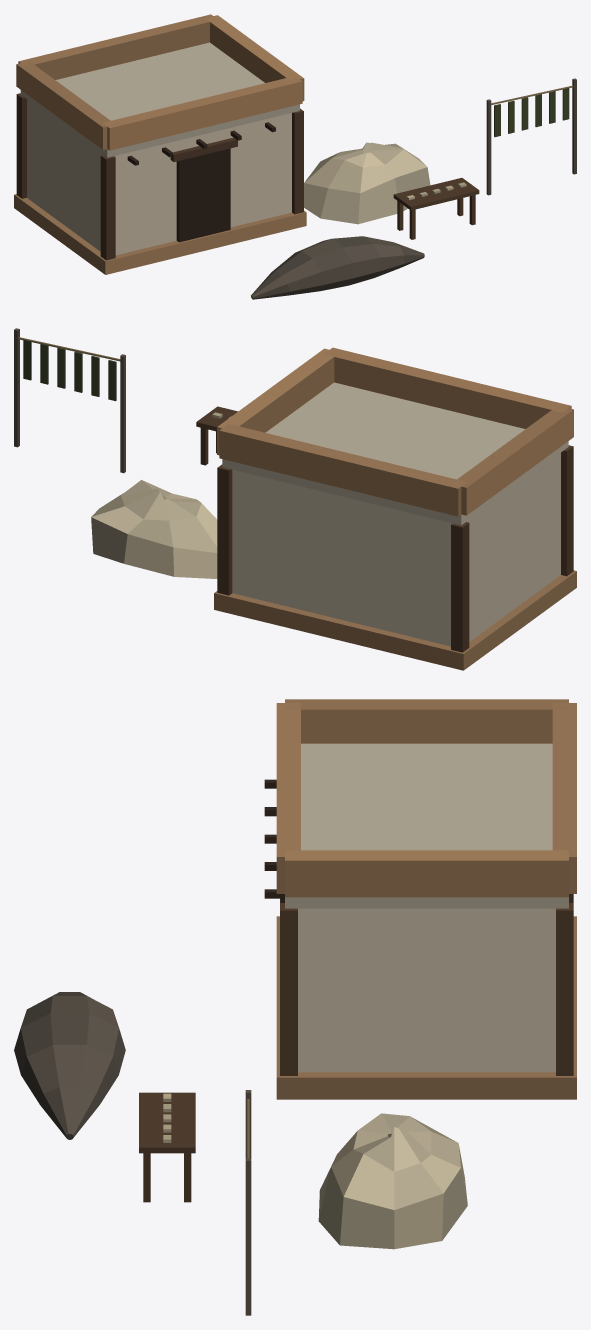
File: walk_sunborn_pearls.glb
3 renders of one model, top to bottom at view 1: azimuth 30°, elevation 25°; view 2: azimuth 150°, elevation 25°; view 3: azimuth 270°, elevation 25°, orthographic. The views are drawn at different scales.
Visible parts, largest first — view 1: walk_sunborn_pearls, walk_sunborn_pearls_roof; view 2: walk_sunborn_pearls, walk_sunborn_pearls_roof; view 3: walk_sunborn_pearls, walk_sunborn_pearls_roof.
Boxes of the visible parts, x1,y1,x2,y2 form: walk_sunborn_pearls: (14, 78, 576, 299); walk_sunborn_pearls_roof: (16, 14, 304, 157); walk_sunborn_pearls: (14, 328, 576, 670); walk_sunborn_pearls_roof: (217, 347, 573, 525); walk_sunborn_pearls: (14, 779, 576, 1315); walk_sunborn_pearls_roof: (276, 699, 576, 908).
Size of what is drawn, in the model's own units: 10.79 by 3.78 by 6.94.
Materials: 1 (1 with a texture image).
